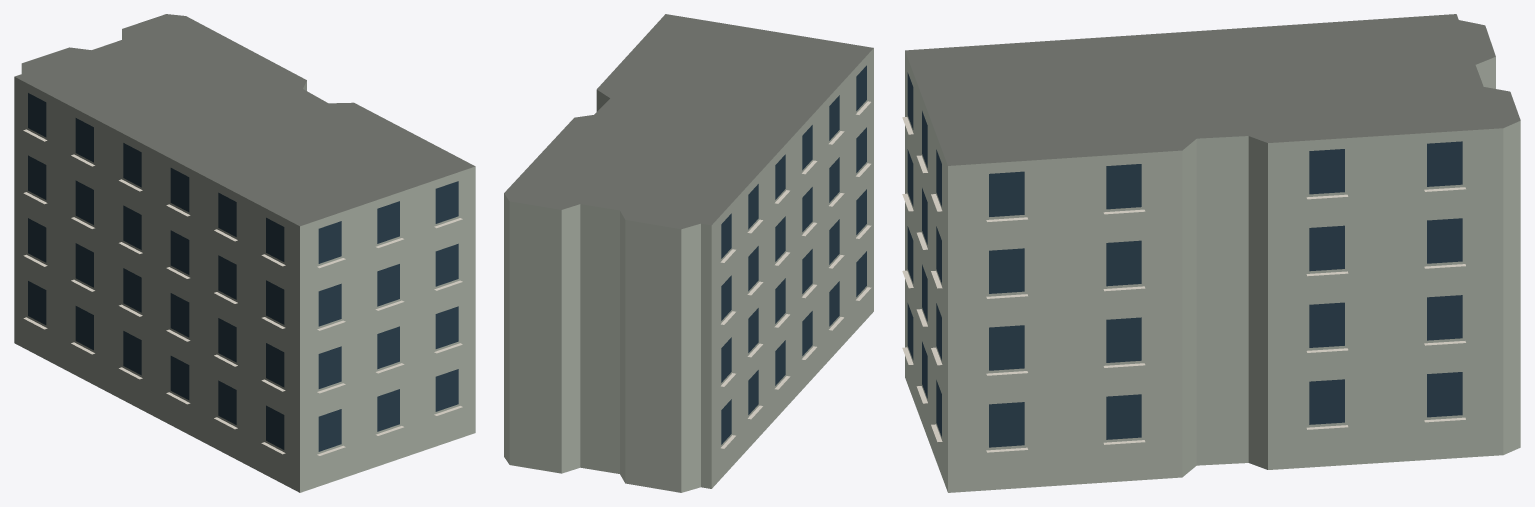
3 views of the same model, side by side, from view 1: azimuth 30°, elevation 25°; view 2: azimuth 150°, elevation 25°; view 3: azimuth 270°, elevation 25° (orthographic). The views are drawn at different scales.
Parts seen in each view (by area): view 1: Footprint 0, Inferred window bays, Window sills; view 2: Footprint 0, Inferred window bays, Window sills; view 3: Footprint 0, Inferred window bays, Window sills.
Boxes of the visible parts, x1,y1,x2,y2 form: Footprint 0: (14, 14, 475, 492); Inferred window bays: (28, 93, 458, 451); Window sills: (23, 129, 462, 455); Footprint 0: (504, 14, 873, 492); Inferred window bays: (721, 65, 866, 444); Window sills: (720, 101, 871, 448); Footprint 0: (905, 14, 1520, 492); Inferred window bays: (907, 72, 1462, 447); Window sills: (902, 117, 1465, 452).
Size of the model in its own units: 12.55 by 12.46 by 21.37.
